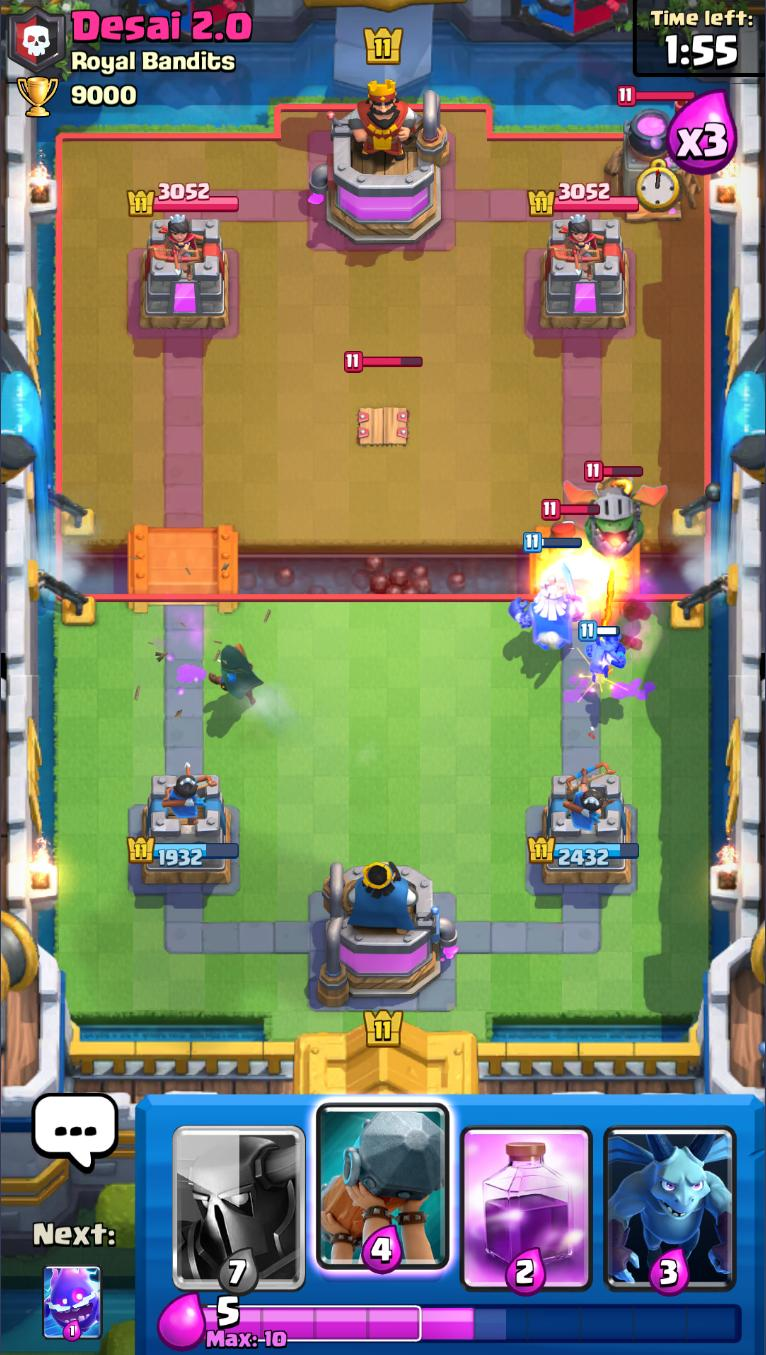BattleRamDeck: (312, 1096, 453, 1298)
ElectroSpiritNext: (41, 1264, 104, 1342)
Elixir: (202, 1294, 743, 1349)
EnemyTower: (138, 215, 232, 331), (539, 215, 632, 331)
Furnace: (606, 87, 702, 223)
Hunter: (535, 501, 601, 562)
InfernoDragon: (561, 460, 670, 567)
KingTower: (310, 79, 451, 248)
MinionsDeck: (598, 1095, 743, 1296)
MyBandit: (206, 643, 263, 707)
MyKingTower: (316, 856, 459, 1009)
MyMinion: (581, 623, 630, 682)
MyPrincessTower: (125, 771, 242, 889), (528, 770, 641, 889)
MyPrincessTowerHP: (125, 835, 241, 868), (527, 835, 641, 868)
MyRoyaleGhost: (510, 534, 584, 660)
PekkaDeck: (166, 1096, 312, 1294)
PrincessTower: (149, 215, 203, 277), (550, 216, 603, 274)
RageDeck: (454, 1097, 598, 1296)
TeslaHidden: (341, 349, 424, 448)
TowerPrincessHP: (127, 182, 240, 217), (528, 182, 641, 216)
